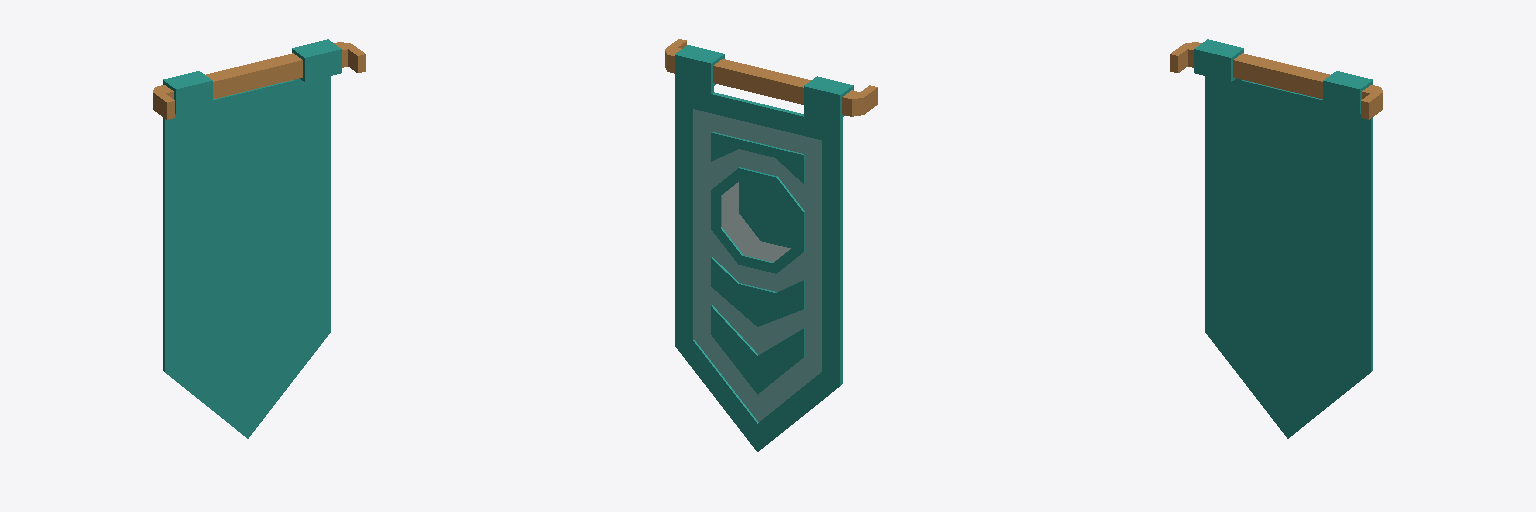
Rendered from Prop_Flag_Moon.obj.
3 views of the same model, side by side, from view 1: azimuth 30°, elevation 25°; view 2: azimuth 150°, elevation 25°; view 3: azimuth 330°, elevation 25° (orthographic).
Visible parts, largest first — view 1: object2, object1; view 2: object2, object1; view 3: object2, object1.
Boxes of the visible parts, x1=… form: object2: x1=163, y1=39, x2=341, y2=438; object1: x1=153, y1=42, x2=365, y2=119; object2: x1=675, y1=45, x2=853, y2=451; object1: x1=665, y1=39, x2=877, y2=116; object2: x1=1194, y1=39, x2=1372, y2=438; object1: x1=1170, y1=42, x2=1382, y2=119.
Size of the model in its own units: 0.54 by 0.979 by 0.099.